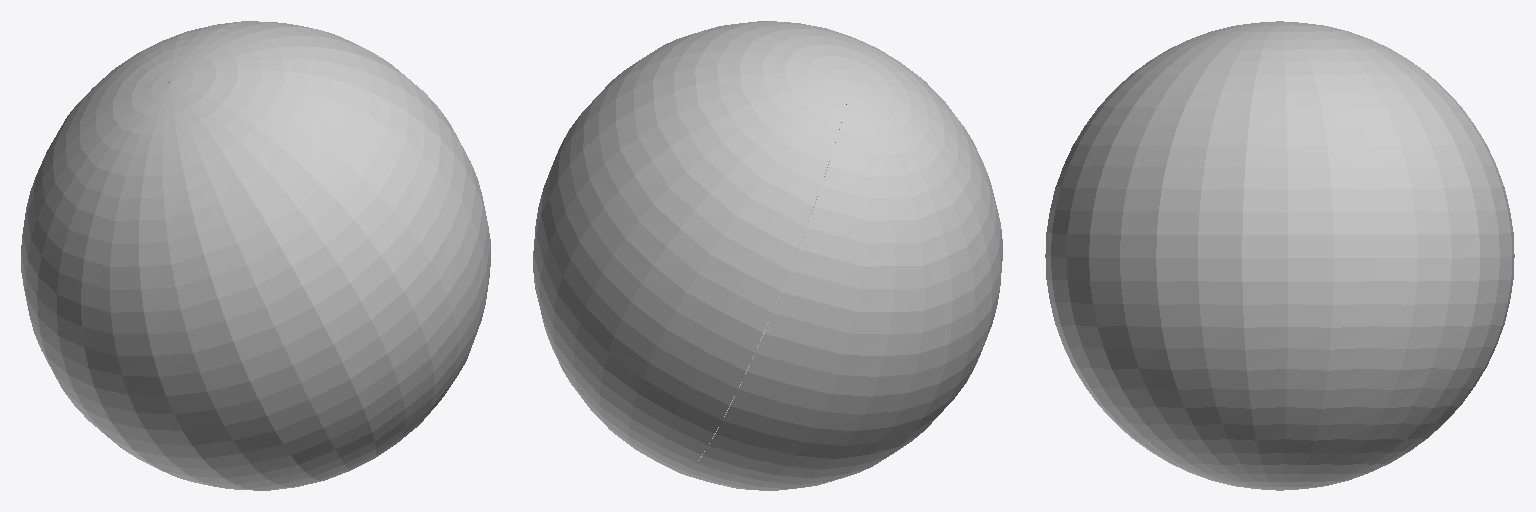
File: AlienPlanet.obj
3 renders of one model, left to right at view 1: azimuth 30°, elevation 25°; view 2: azimuth 150°, elevation 25°; view 3: azimuth 270°, elevation 25°, orthographic.
Parts seen in each view (by area): view 1: Plane; view 2: Plane; view 3: Plane.
Boxes of the visible parts, <box> form: Plane: <box>21,21,490,490</box>; Plane: <box>533,21,1002,490</box>; Plane: <box>1045,21,1514,490</box>.
Size of the model in its own units: 5.44 by 5.44 by 5.44.